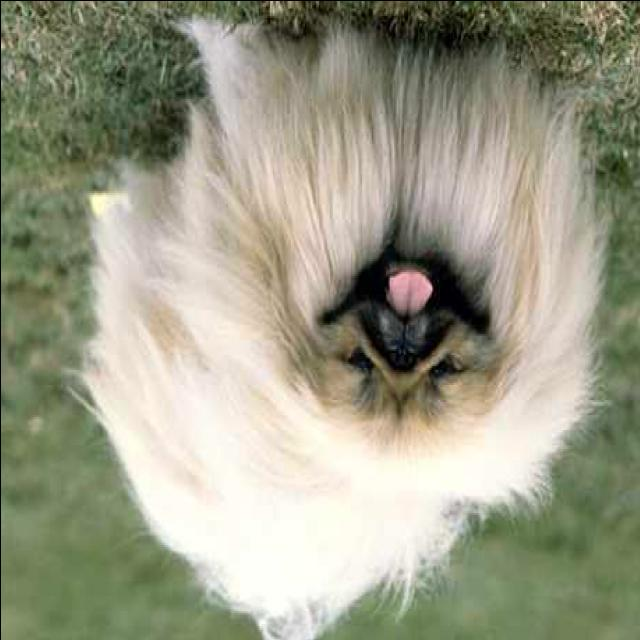pekinese: (88, 15, 606, 640)
